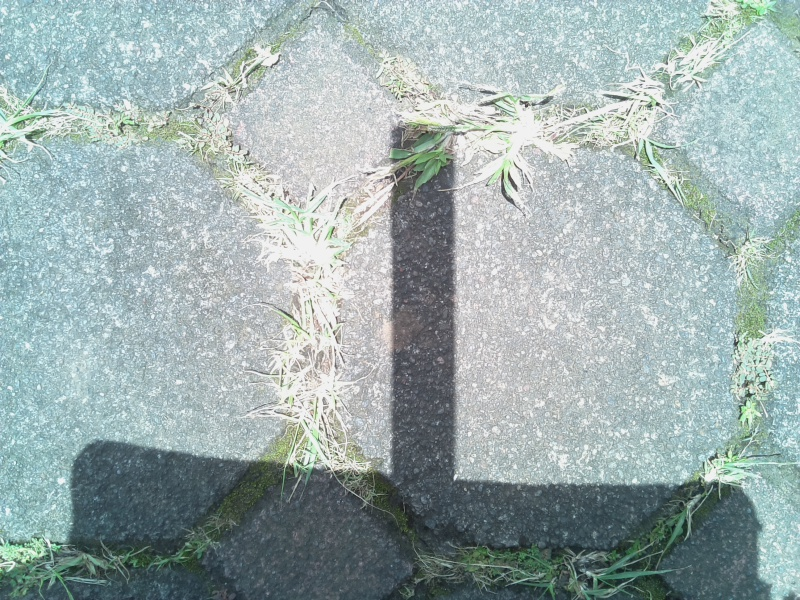Weed: (400, 92, 564, 189), (235, 168, 352, 300), (431, 540, 651, 600), (281, 312, 350, 466), (1, 531, 140, 590), (658, 458, 748, 546), (598, 68, 671, 160), (732, 332, 786, 434), (1, 77, 54, 170), (157, 517, 235, 573), (677, 38, 724, 95), (726, 228, 766, 294)
